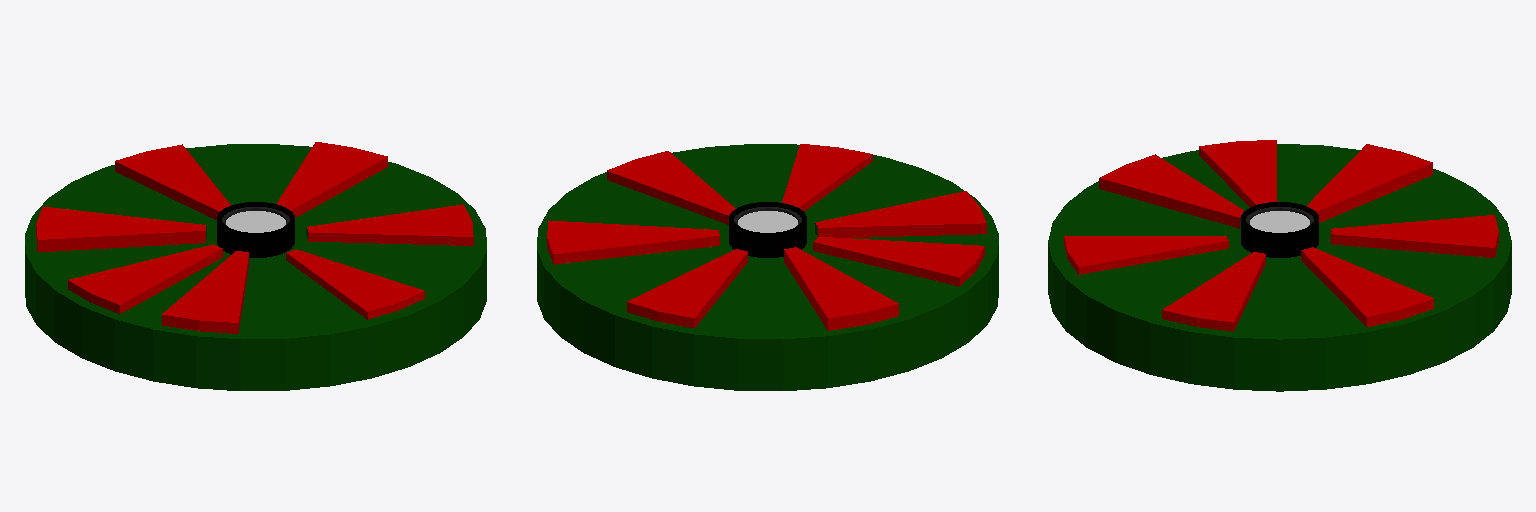
File: mina.obj
3 views of the same model, side by side, from view 1: azimuth 30°, elevation 25°; view 2: azimuth 150°, elevation 25°; view 3: azimuth 270°, elevation 25° (orthographic).
Visible parts, largest first — view 1: Circle; view 2: Circle; view 3: Circle.
Boxes of the visible parts, <box> form: Circle: <box>25,142,486,390</box>; Circle: <box>537,144,998,390</box>; Circle: <box>1048,140,1511,391</box>.
Size of the model in its own units: 2 by 0.3589 by 2.